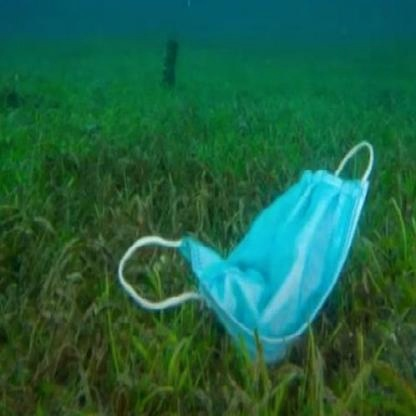misc: (82, 137, 402, 366)
